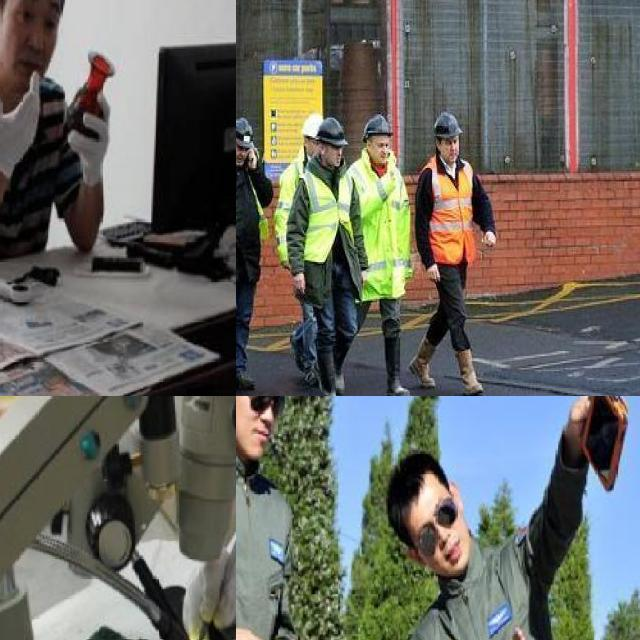boots: (406, 336, 444, 389), (453, 347, 486, 396)
face_mask: (368, 135, 392, 169), (437, 135, 464, 160), (326, 141, 346, 167), (236, 142, 252, 169)
face_nomask: (409, 481, 478, 572), (0, 0, 61, 75), (236, 396, 286, 452)
glasses: (409, 496, 460, 562), (241, 396, 289, 421)
hand_glove: (176, 547, 236, 636), (0, 67, 43, 168), (68, 90, 113, 180)
hand_noglove: (566, 396, 593, 457), (288, 269, 310, 292), (478, 228, 500, 249), (424, 263, 446, 282)
head_helmet: (428, 110, 470, 141), (312, 116, 350, 149), (360, 112, 393, 141), (236, 116, 257, 148)
head_nohelmet: (374, 442, 438, 513)
person: (367, 396, 609, 640), (0, 0, 101, 267), (236, 396, 306, 640)
shoes: (382, 372, 415, 396), (236, 362, 259, 395), (316, 385, 348, 396)
vest: (418, 156, 489, 273), (293, 157, 364, 273), (236, 156, 269, 260)
